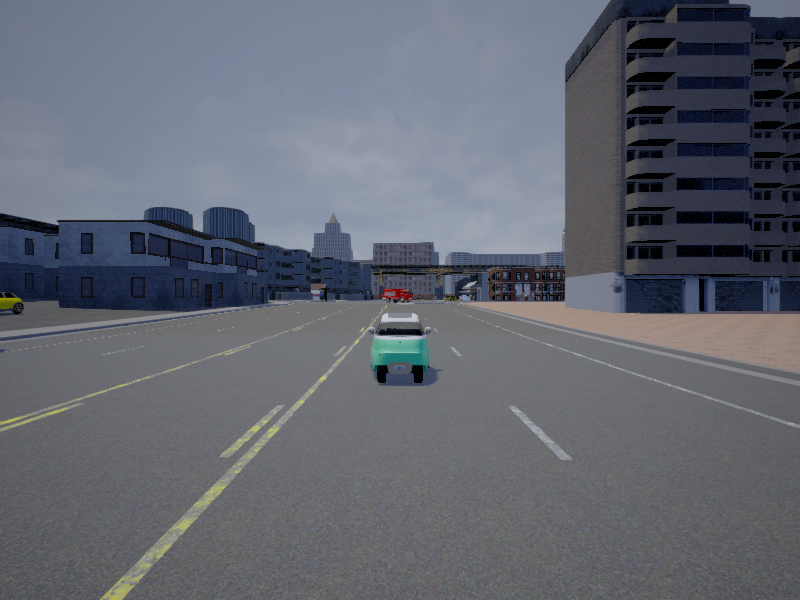Benign: (369, 313, 431, 387), (1, 291, 24, 312), (381, 290, 414, 304)
